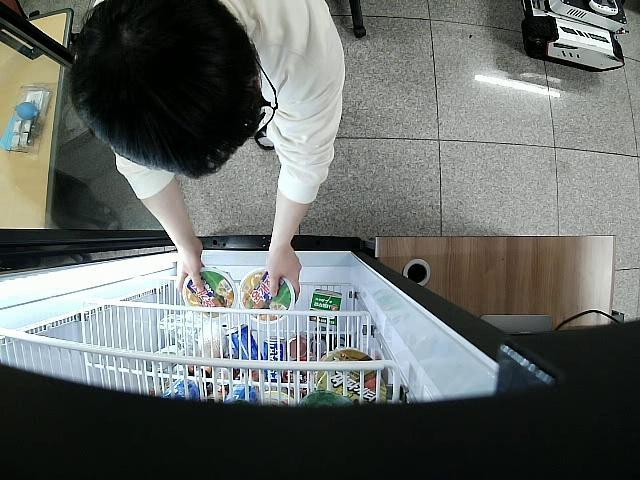09_yukGaeJang: (238, 268, 294, 324), (183, 267, 236, 318)
